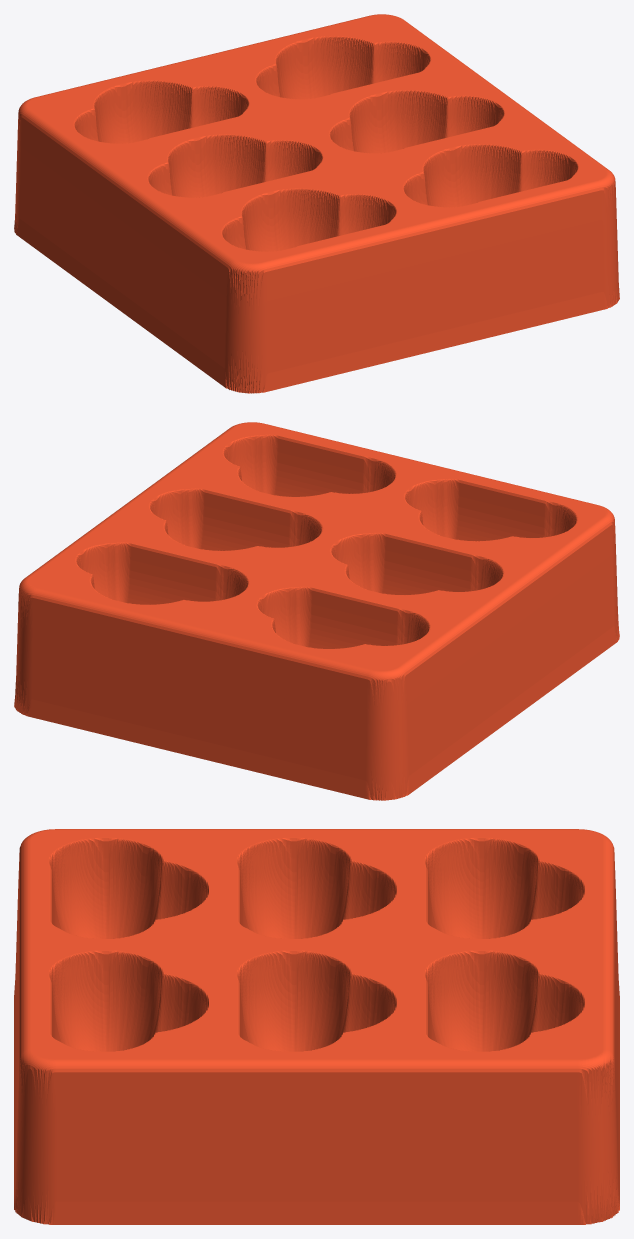
File: mold.glb
3 views of the same model, one above another, from view 1: azimuth 30°, elevation 25°; view 2: azimuth 150°, elevation 25°; view 3: azimuth 270°, elevation 25° (orthographic). The views are drawn at different scales.
Visible parts, largest first — view 1: geometry_0; view 2: geometry_0; view 3: geometry_0.
Boxes of the visible parts, x1,y1,x2,y2 form: geometry_0: (14,14,619,393); geometry_0: (14,422,619,800); geometry_0: (14,829,619,1224).
Size of the model in its own units: 0.1246 by 0.0377 by 0.1311.
